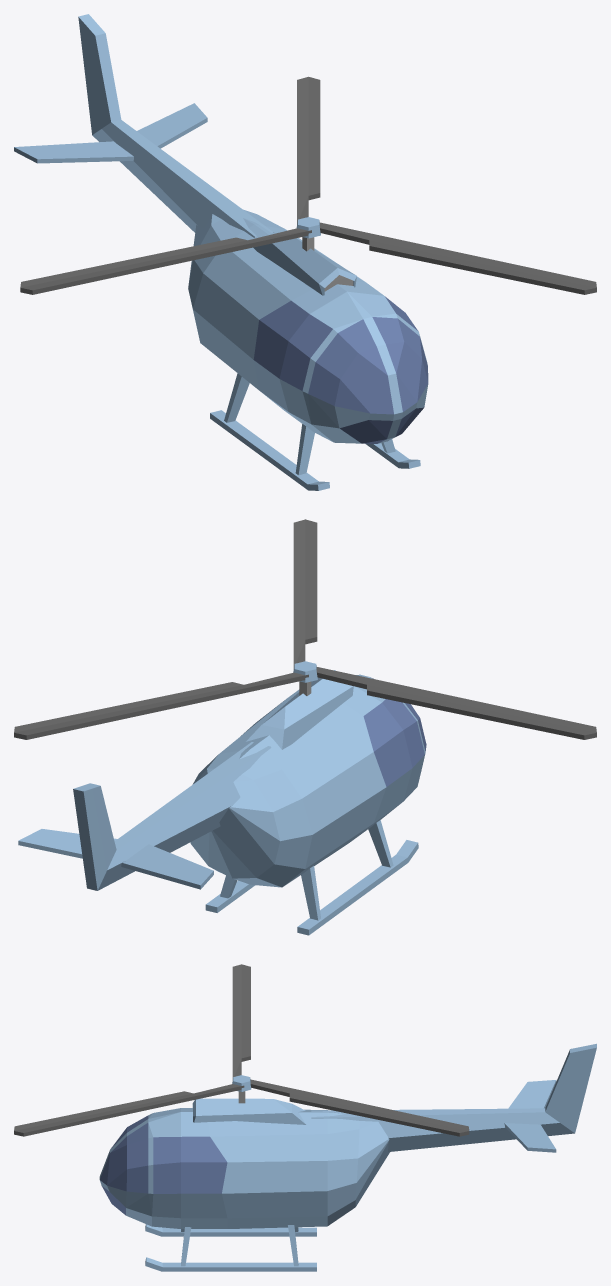
Rendered from transport_air_002.glb.
3 views of the same model, one above another, from view 1: azimuth 30°, elevation 25°; view 2: azimuth 150°, elevation 25°; view 3: azimuth 270°, elevation 25° (orthographic). The views are drawn at different scales.
Visible parts, largest first — view 1: transport_air_002; view 2: transport_air_002; view 3: transport_air_002.
Part boxes in pixels (x1=…): transport_air_002: x1=14, y1=14, x2=596, y2=490; transport_air_002: x1=14, y1=519, x2=596, y2=935; transport_air_002: x1=14, y1=964, x2=596, y2=1271.
Bounding box in the file's own units: 4.4 × 2.51 × 6.42.
Materials: 1 (1 with a texture image).
